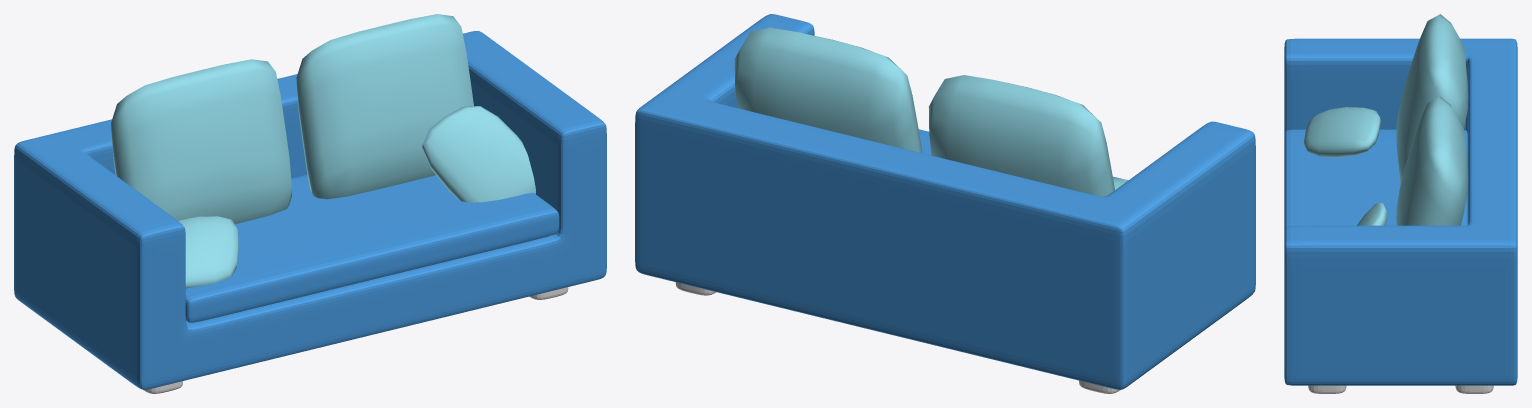
Rendered from Couch.glb.
3 views of the same model, side by side, from view 1: azimuth 30°, elevation 25°; view 2: azimuth 150°, elevation 25°; view 3: azimuth 270°, elevation 25° (orthographic). The views are drawn at different scales.
Parts seen in each view (by area): view 1: Couch, Pillow.003, Pillow.002, pillow small.003, pillow small.002; view 2: Couch, Pillow.003, Pillow.002, couch legs.001; view 3: Couch, Pillow.003, Pillow.002, pillow small.002, couch legs.001, pillow small.003.
Boxes of the visible parts, left/top/right/bottom form: Couch: left=14, top=31, right=606, bottom=389; Pillow.003: left=296, top=14, right=473, bottom=199; Pillow.002: left=111, top=59, right=292, bottom=224; pillow small.003: left=422, top=106, right=535, bottom=202; pillow small.002: left=177, top=216, right=238, bottom=288; Couch: left=635, top=14, right=1255, bottom=389; Pillow.003: left=734, top=27, right=922, bottom=152; Pillow.002: left=928, top=75, right=1114, bottom=196; couch legs.001: left=675, top=282, right=1120, bottom=393; Couch: left=1284, top=38, right=1517, bottom=385; Pillow.003: left=1396, top=96, right=1468, bottom=225; Pillow.002: left=1396, top=14, right=1468, bottom=183; pillow small.002: left=1304, top=107, right=1380, bottom=157; couch legs.001: left=1308, top=385, right=1493, bottom=393; pillow small.003: left=1357, top=202, right=1387, bottom=225.
Size of the model in its own units: 1.9 by 0.9545 by 0.9.
